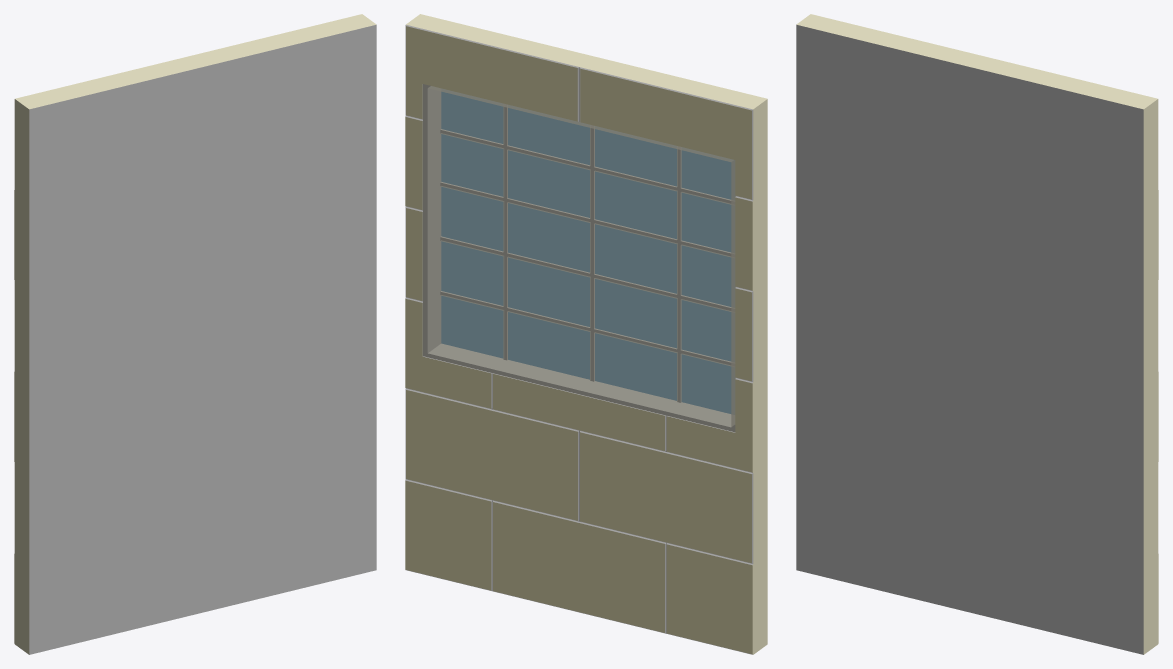
File: ExteriorWall_Window_Str_ExportPrep.gltf
The picture shows the model from 3 angles, left to right: view 1: azimuth 30°, elevation 25°; view 2: azimuth 150°, elevation 25°; view 3: azimuth 330°, elevation 25°; orthographic projection.
Visible parts, largest first — view 1: ExteriorWall_Window_Str; view 2: ExteriorWall_Window_Str; view 3: ExteriorWall_Window_Str.
Boxes of the visible parts, <box> form: ExteriorWall_Window_Str: <box>14,14,376,654</box>; ExteriorWall_Window_Str: <box>405,14,767,654</box>; ExteriorWall_Window_Str: <box>796,14,1158,654</box>.
Bounding box in the file's own units: 2 × 3 × 0.15.
